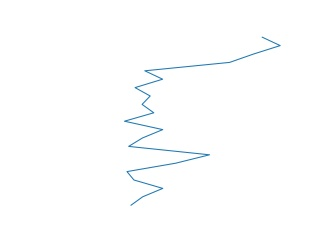crevasseRiverChannelBar: (120, 34, 288, 208)
